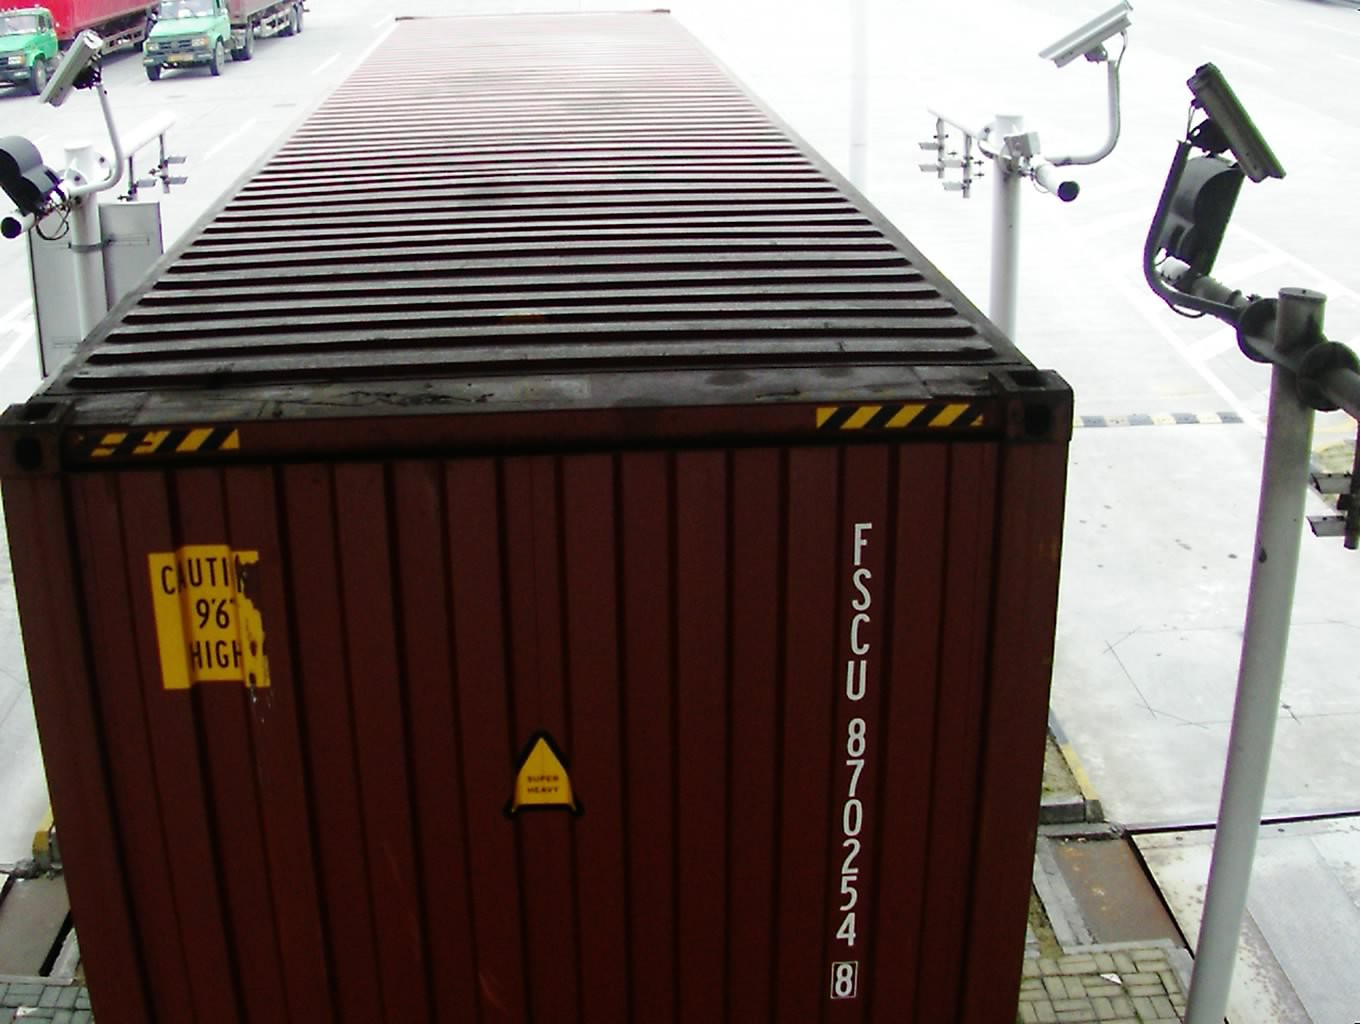words: (825, 510, 878, 1001)
